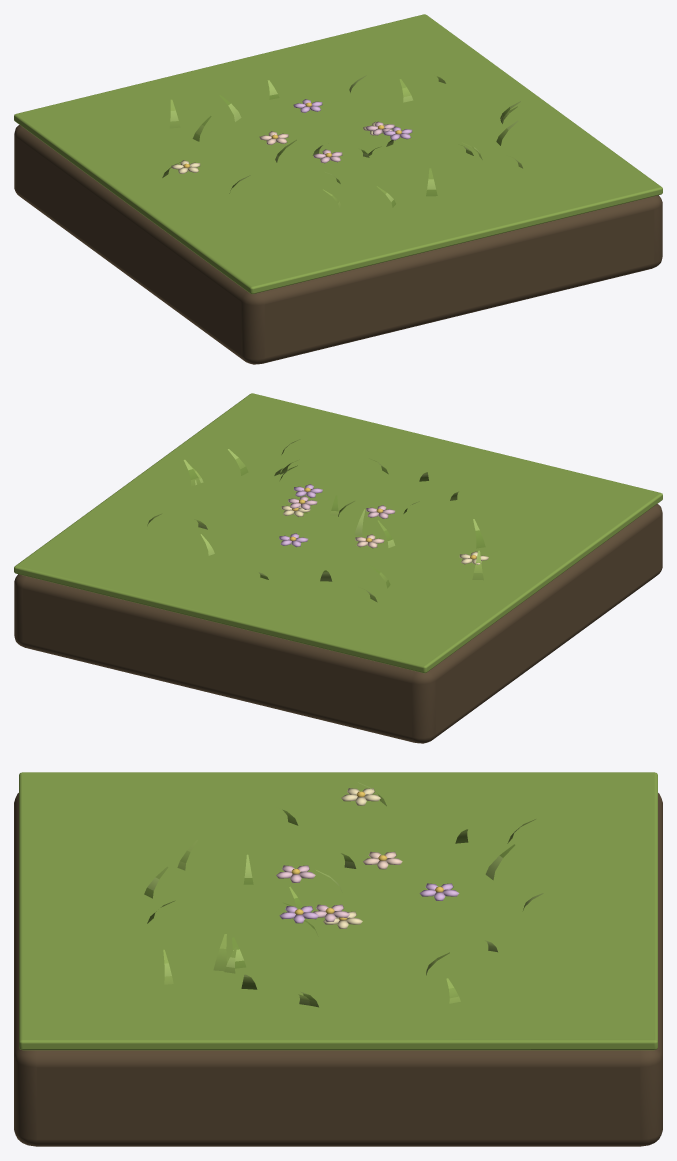
File: grass_tile.glb
The picture shows the model from 3 angles, top to bottom: view 1: azimuth 30°, elevation 25°; view 2: azimuth 150°, elevation 25°; view 3: azimuth 270°, elevation 25°; orthographic projection. The views are drawn at different scales.
Parts seen in each view (by area): view 1: grass_tile; view 2: grass_tile; view 3: grass_tile.
Part boxes in pixels (x1=…): grass_tile: x1=14, y1=14, x2=662, y2=364; grass_tile: x1=14, y1=393, x2=662, y2=743; grass_tile: x1=14, y1=772, x2=662, y2=1146.
Bounding box in the file's own units: 1 × 0.2333 × 1.
